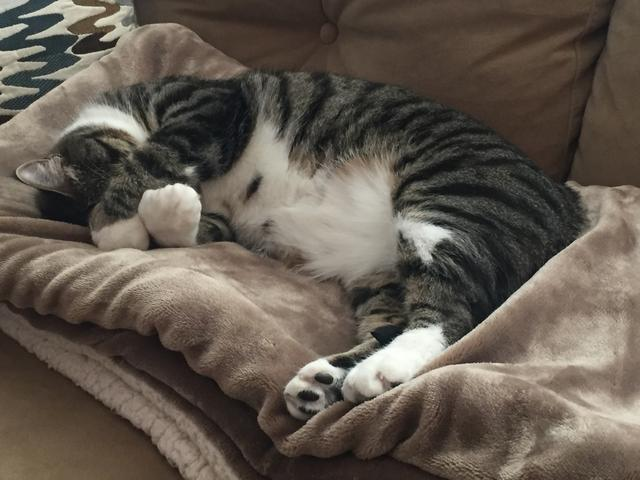playdoh: (12, 72, 586, 418)
